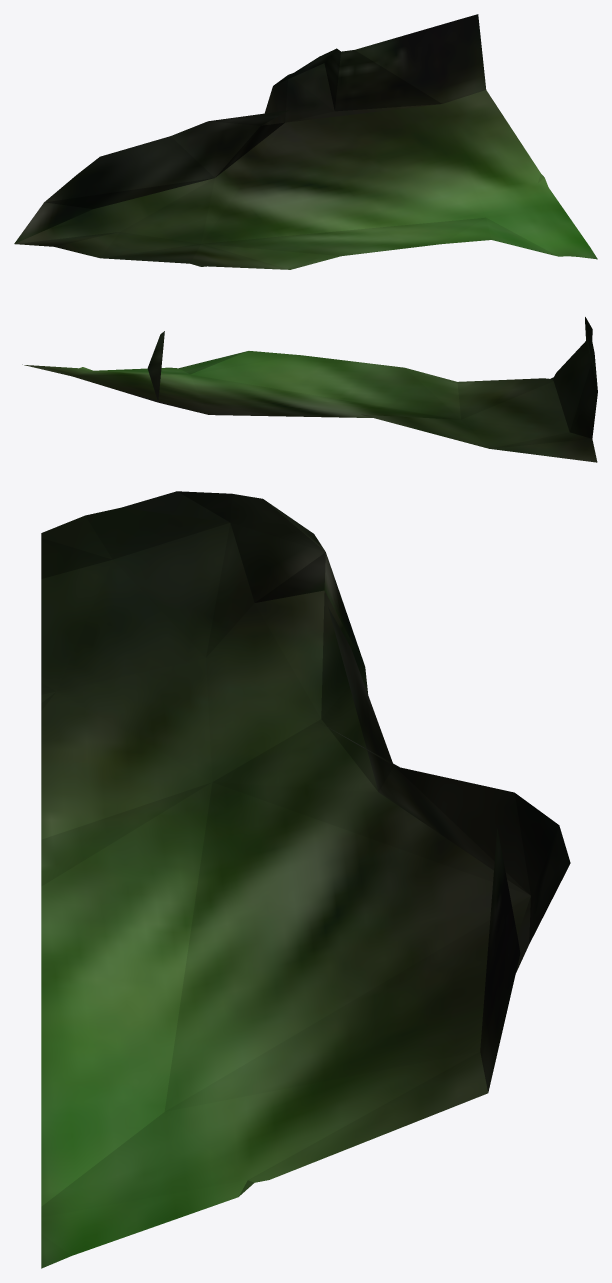
3 views of the same model, one above another, from view 1: azimuth 30°, elevation 25°; view 2: azimuth 150°, elevation 25°; view 3: azimuth 270°, elevation 25° (orthographic). The views are drawn at different scales.
Size of the model in its own units: 1.09 by 0.321 by 0.4883.
1 material, 1 textured.
